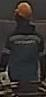gloves: (0, 69, 10, 83)
helmet: (13, 1, 33, 20)
vest: (3, 29, 42, 82)
